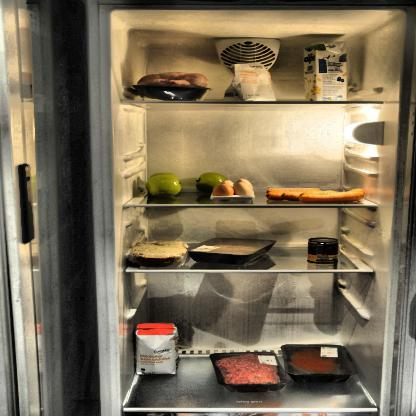apple: (194, 170, 231, 194)
beef: (286, 344, 350, 386)
carrot: (262, 184, 357, 206)
cheese: (145, 172, 182, 200)
chicken: (134, 69, 210, 101), (193, 238, 267, 264)
corn: (307, 236, 339, 264)
eggs: (213, 178, 255, 201)
ground_beef: (214, 352, 282, 389)
milk: (304, 40, 348, 104)
